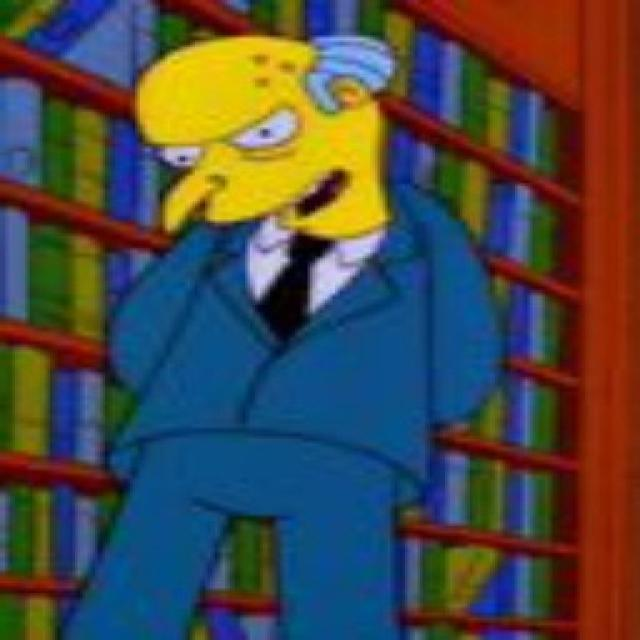Charles Montgomery Burns: (134, 34, 401, 244)
